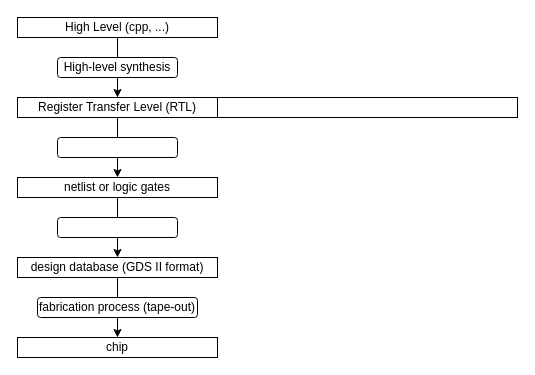
Some shapes in this 535 by 375 pixel diagram are drawn without their labels. The shapes that lost their labels are listed below. From the top down, each one's centre as x and y in pixels, then its label:
At (x=367, y=107): "Hardware Description Language (HDL): Verilog, VHDL".
At (x=117, y=147): "Logic synthesis".
At (x=117, y=227): "Physical design".
